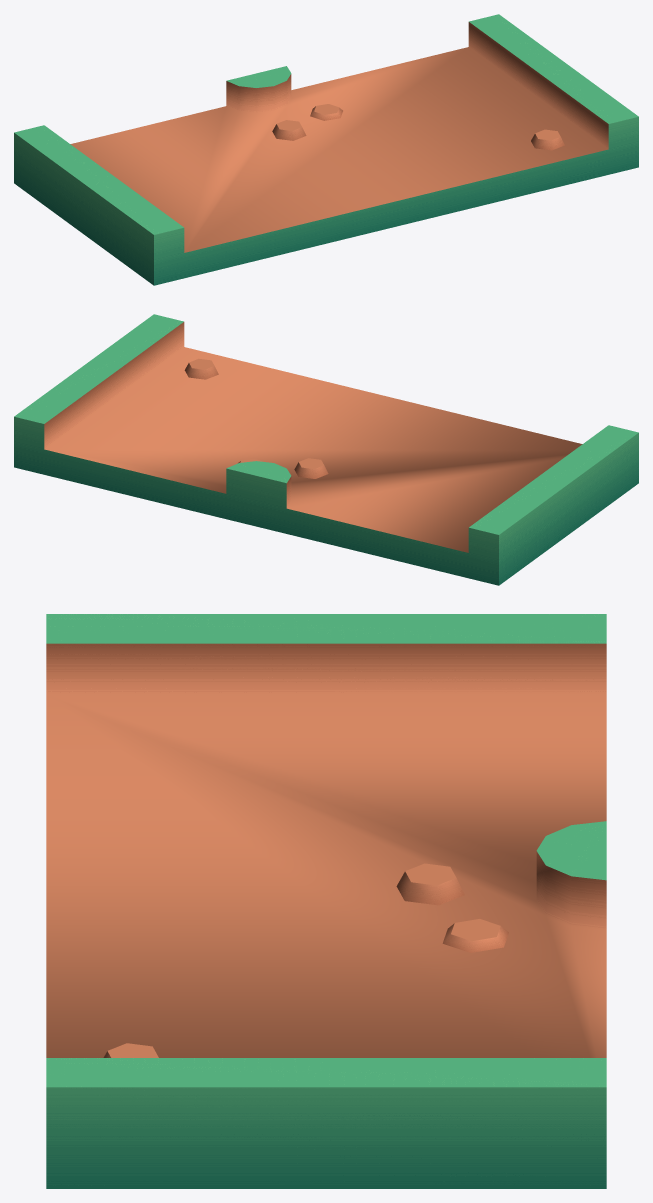
The model's file is tile-wide-split.glb.
3 views of the same model, one above another, from view 1: azimuth 30°, elevation 25°; view 2: azimuth 150°, elevation 25°; view 3: azimuth 270°, elevation 25° (orthographic). The views are drawn at different scales.
Visible parts, largest first — view 1: tile-wide-split; view 2: tile-wide-split; view 3: tile-wide-split.
Part boxes in pixels (x1,y1,x2,y2): tile-wide-split: (14,14,638,285); tile-wide-split: (14,314,638,585); tile-wide-split: (46,614,606,1188).
Size of the model in its own units: 6 by 0.6 by 3.
1 material, 1 textured.
